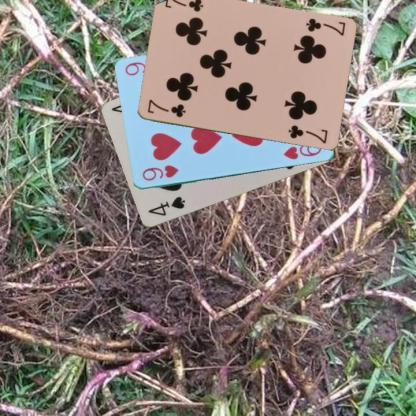4s: (145, 194, 187, 218)
7c: (303, 15, 346, 38), (144, 97, 186, 119)
9h: (139, 162, 180, 183)
